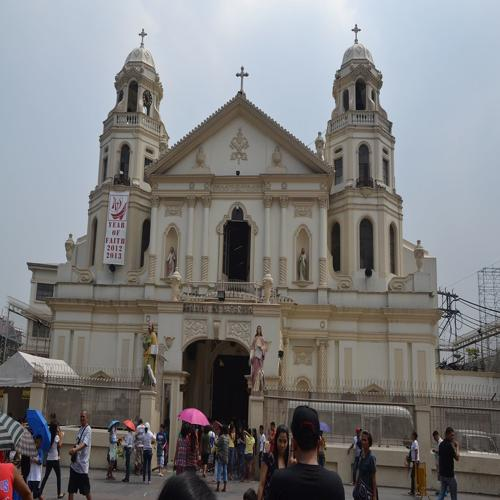Quiapo Church: (47, 18, 450, 467)
